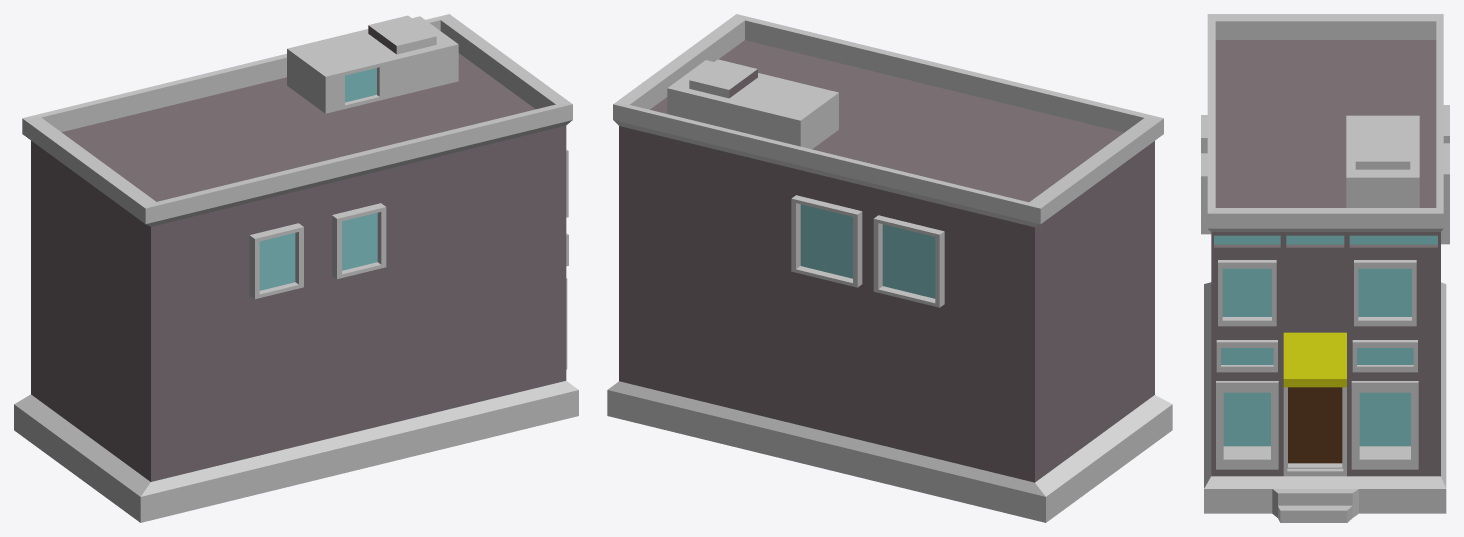
The model's file is building_grey.fbx.
3 renders of one model, left to right at view 1: azimuth 30°, elevation 25°; view 2: azimuth 150°, elevation 25°; view 3: azimuth 270°, elevation 25°, orthographic. The views are drawn at different scales.
Parts seen in each view (by area): view 1: Cube; view 2: Cube; view 3: Cube.
Part boxes in pixels (x1,y1,x2,y2): Cube: (14,14,578,522); Cube: (607,14,1172,522); Cube: (1201,14,1449,522).
Bounding box in the file's own units: 1543 × 1086 × 758.
